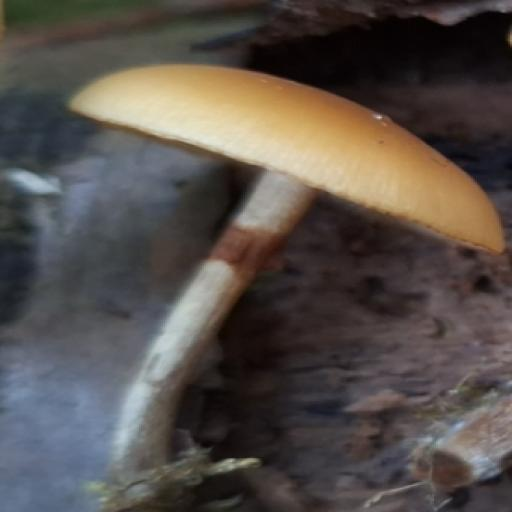mushroom: (73, 59, 509, 359)
